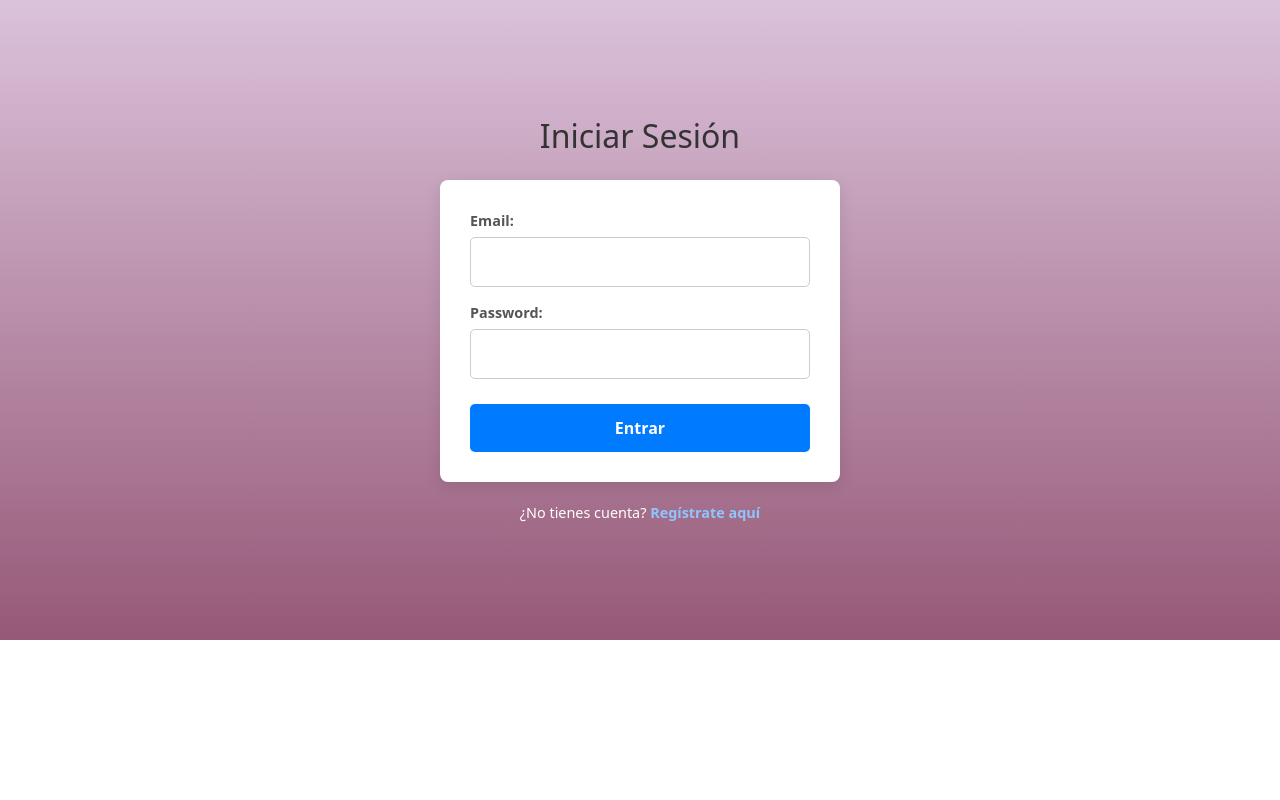
Test: IniciarSesion Component › debe mostrar un error genérico si la API falla con un error 500
// B. Act: Rellena el formulario
Type "test@test.com" into the field labelled "Email:" at (640, 262), box [470,237,810,287]
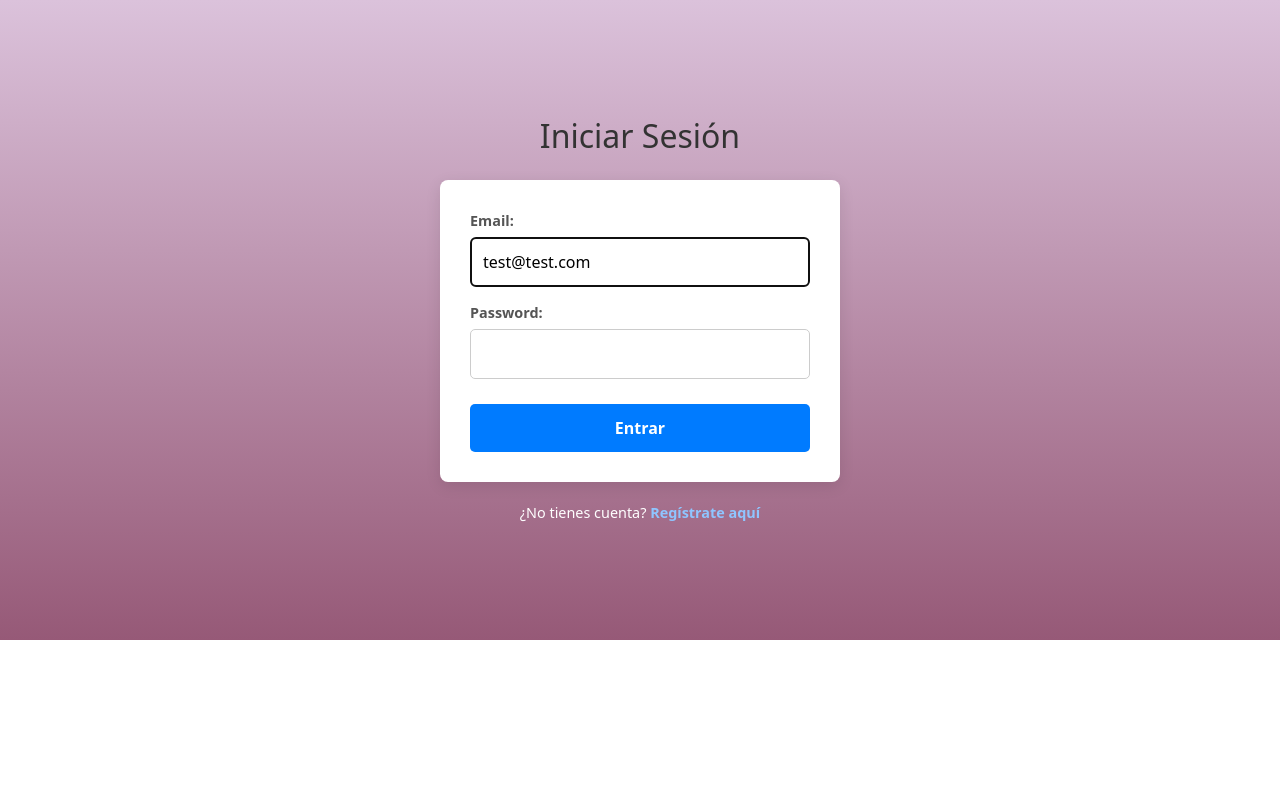
Type "123456" into the password field labelled "Password:" at (640, 354), box [470,328,810,378]
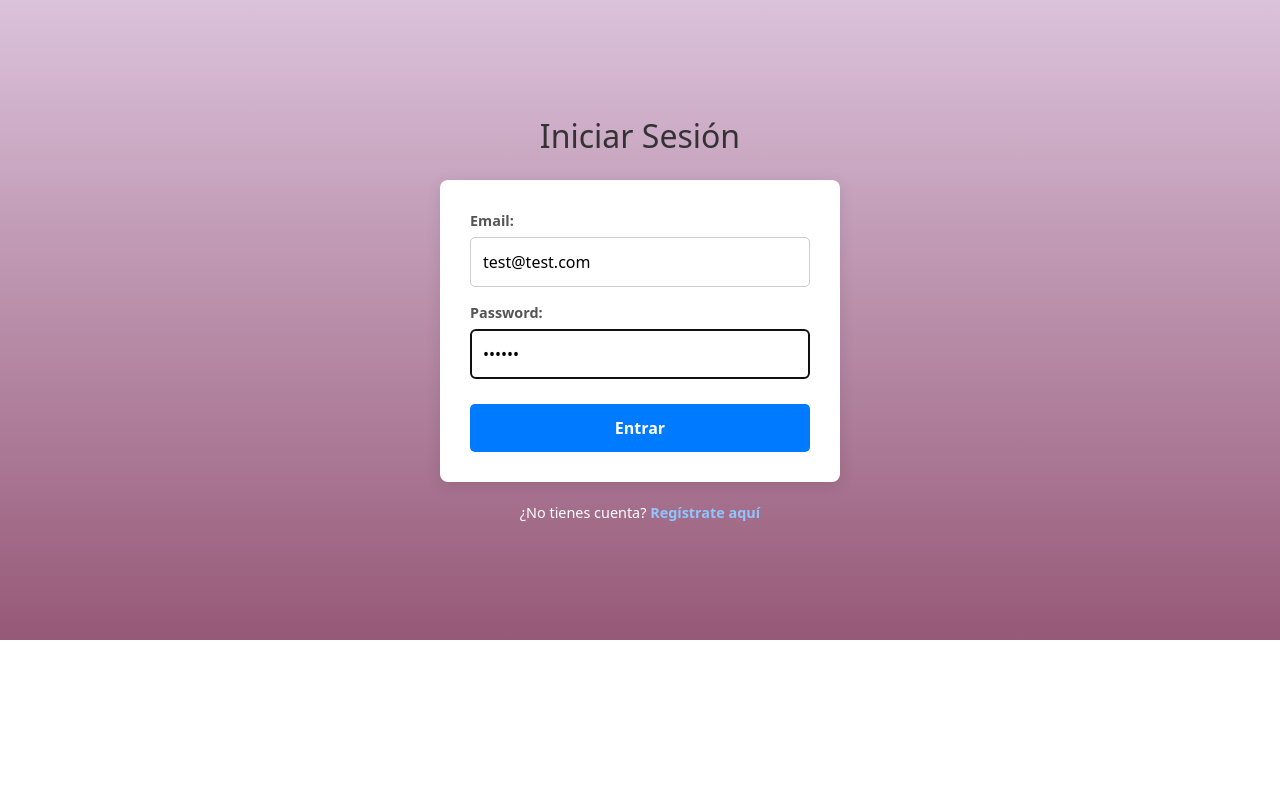
Click the button "Entrar" at (640, 428), box [470,404,810,452]
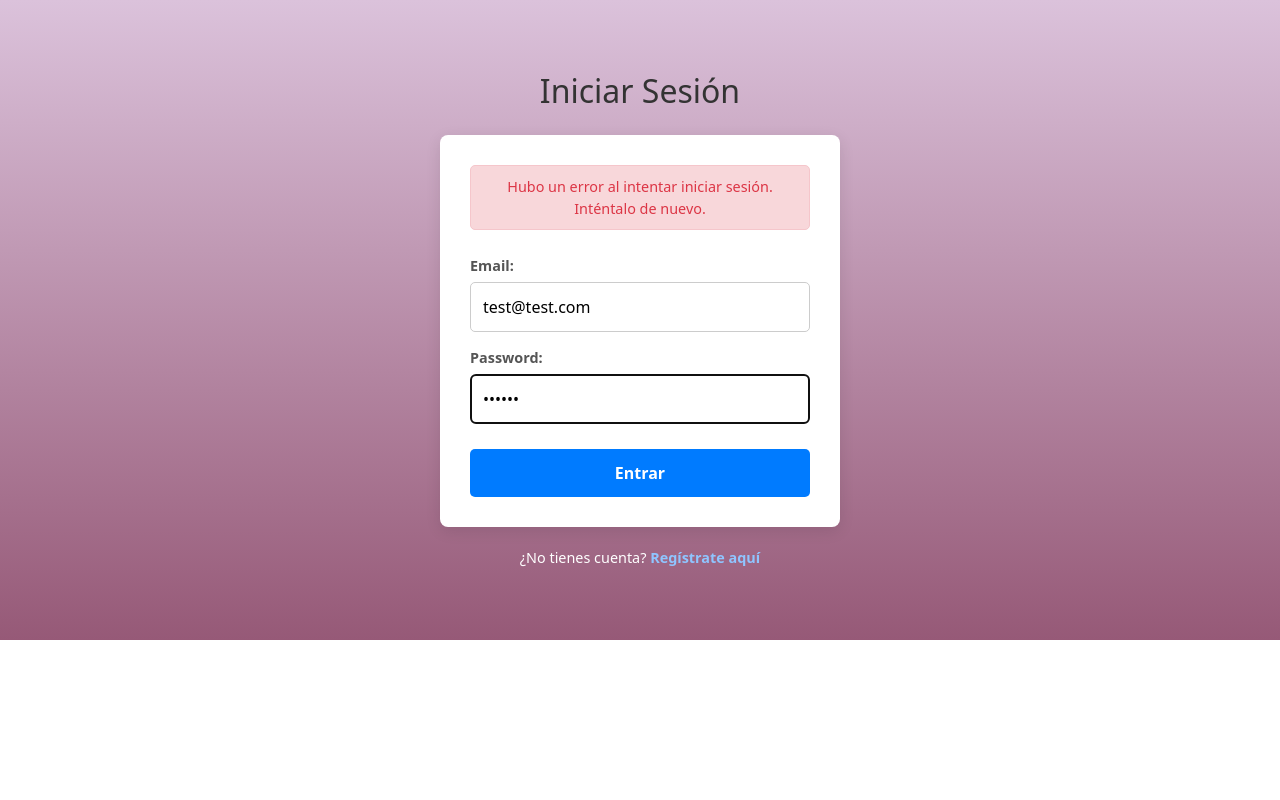
Check: the text "Hubo un error al intentar iniciar sesión. Inténtalo de nuevo." is shown, box [470,165,810,230]
